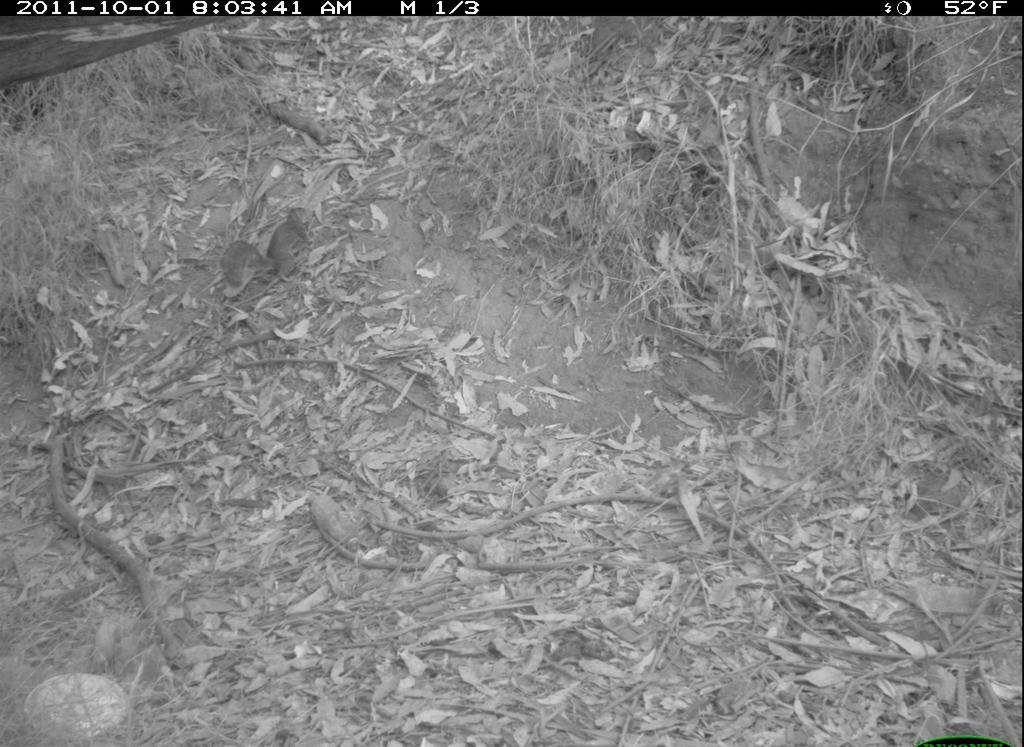squirrel: (219, 207, 313, 302)
